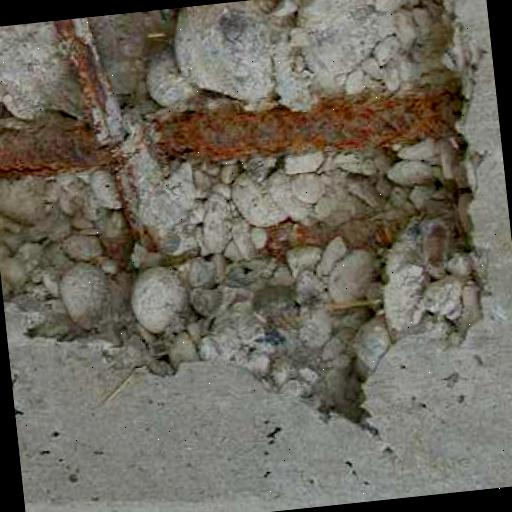spalling: (0, 0, 479, 428)
